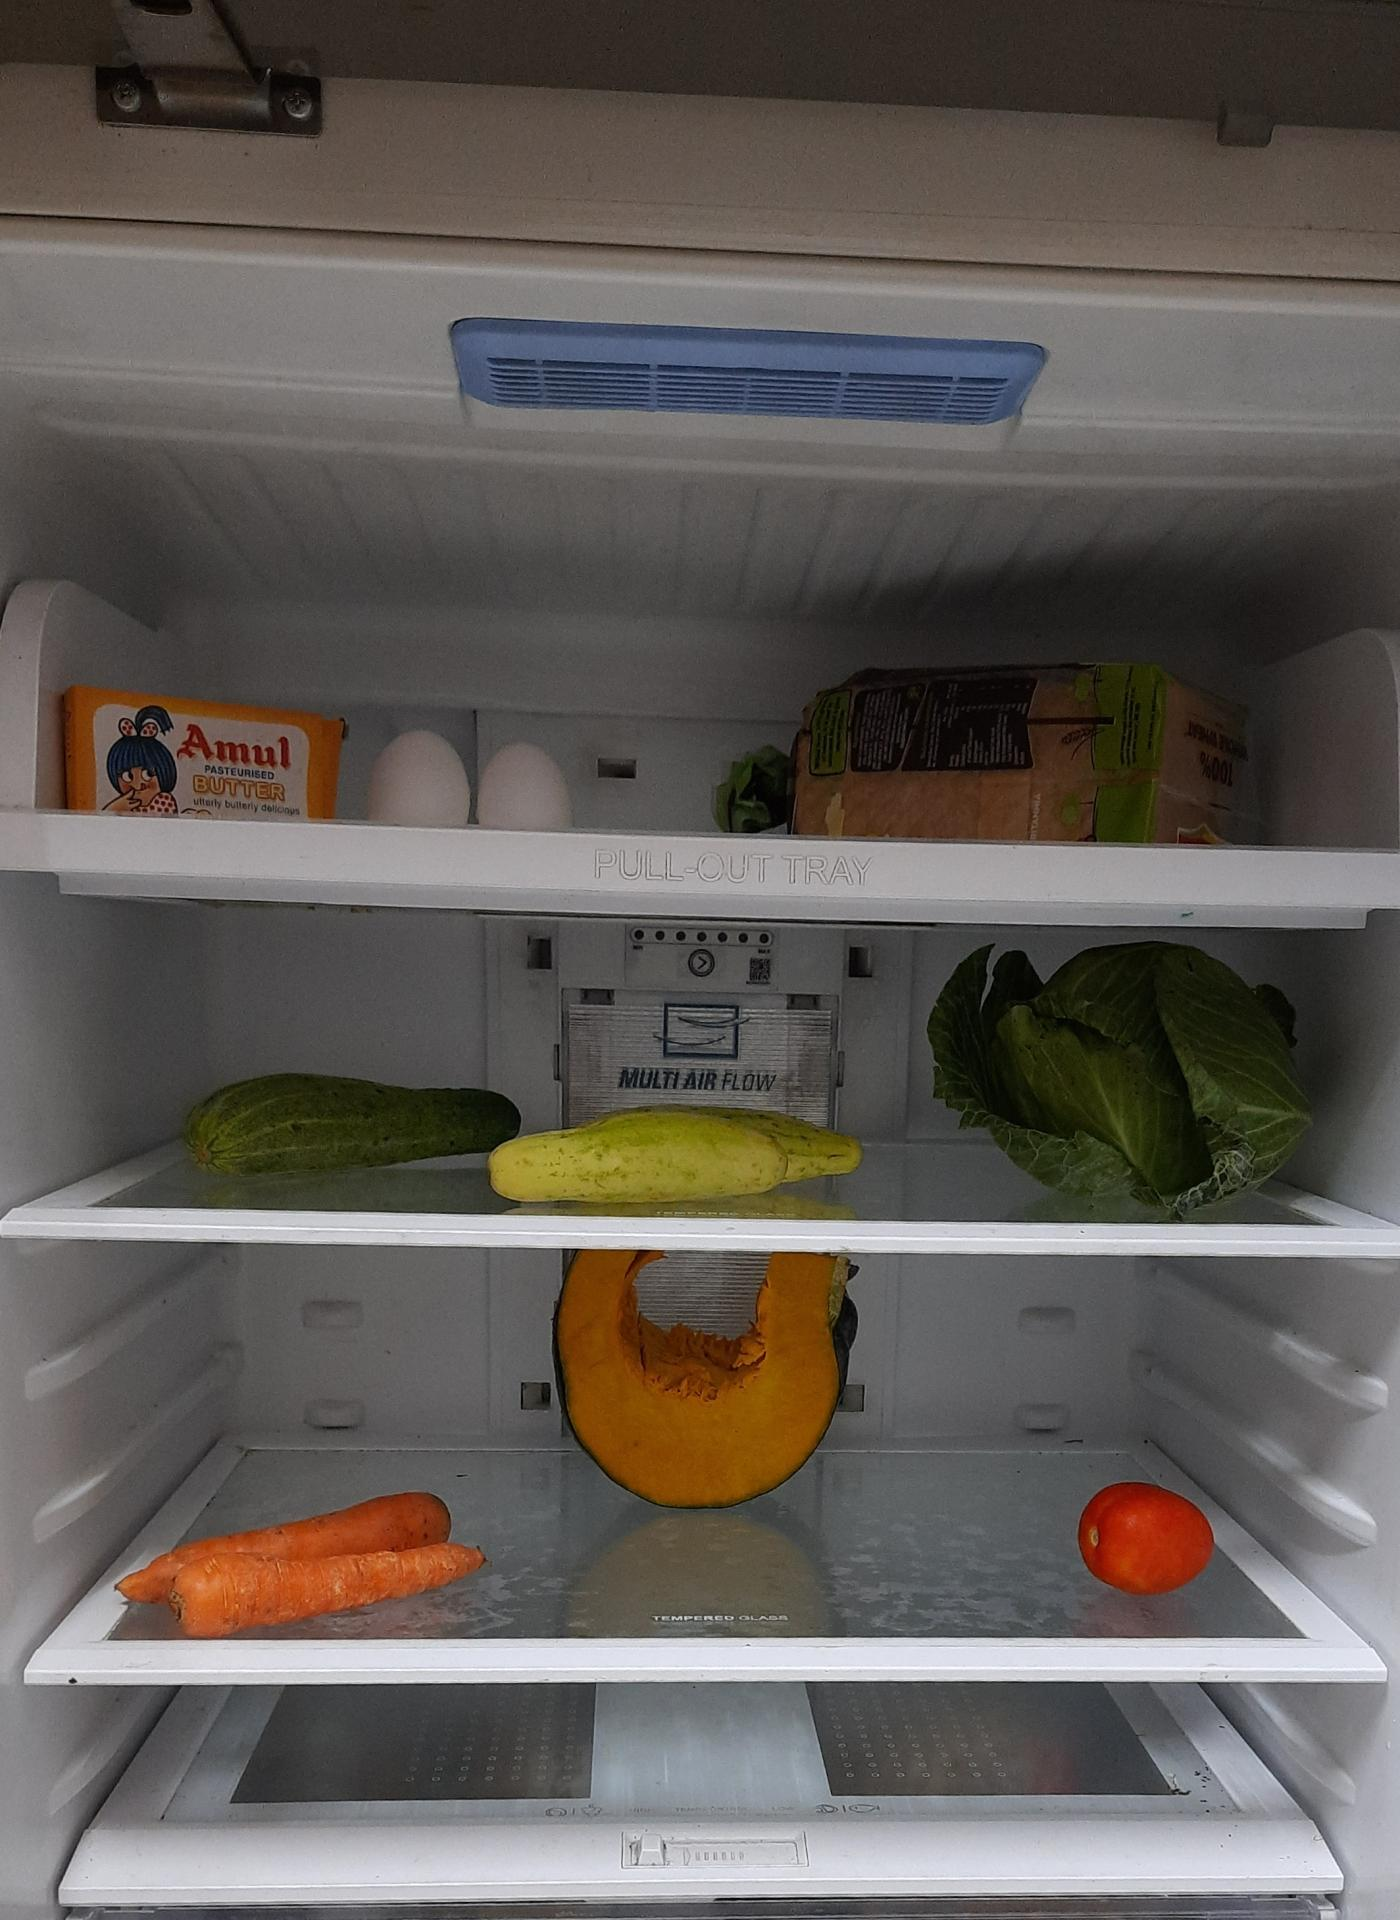bread: (722, 668, 1249, 851)
butter: (60, 678, 355, 814)
cabbage: (930, 945, 1317, 1207)
carrots: (121, 1504, 491, 1638)
cucumber: (476, 1109, 868, 1204), (176, 1073, 522, 1172)
egg: (365, 721, 578, 823)
pumpkin: (547, 1245, 856, 1506)
tomato: (1076, 1477, 1218, 1594)
